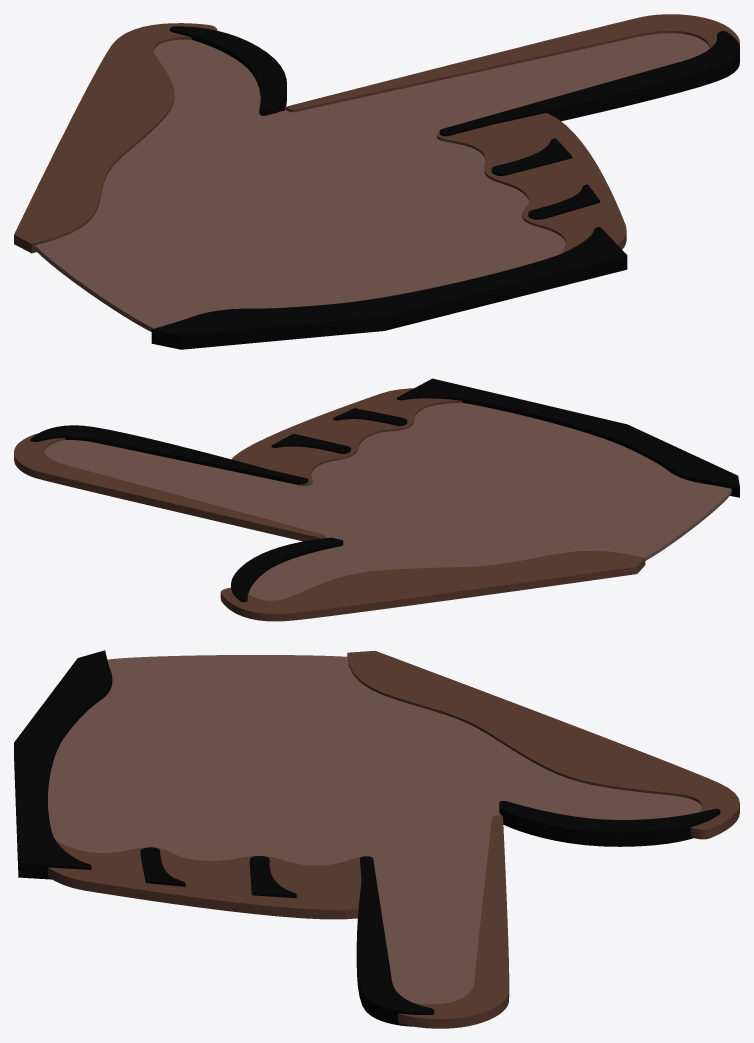
File: emoji_u1f449_1f3ff.glb
3 renders of one model, top to bottom at view 1: azimuth 30°, elevation 25°; view 2: azimuth 150°, elevation 25°; view 3: azimuth 270°, elevation 25°, orthographic. The views are drawn at different scales.
Parts seen in each view (by area): view 1: emoji_u1f449_1f3ff; view 2: emoji_u1f449_1f3ff; view 3: emoji_u1f449_1f3ff.
Part boxes in pixels (x1=…): emoji_u1f449_1f3ff: x1=14, y1=14, x2=739, y2=349; emoji_u1f449_1f3ff: x1=14, y1=378, x2=739, y2=621; emoji_u1f449_1f3ff: x1=14, y1=650, x2=739, y2=1028.
Size of the model in its own units: 0.0331 by 0.0006 by 0.0276.
